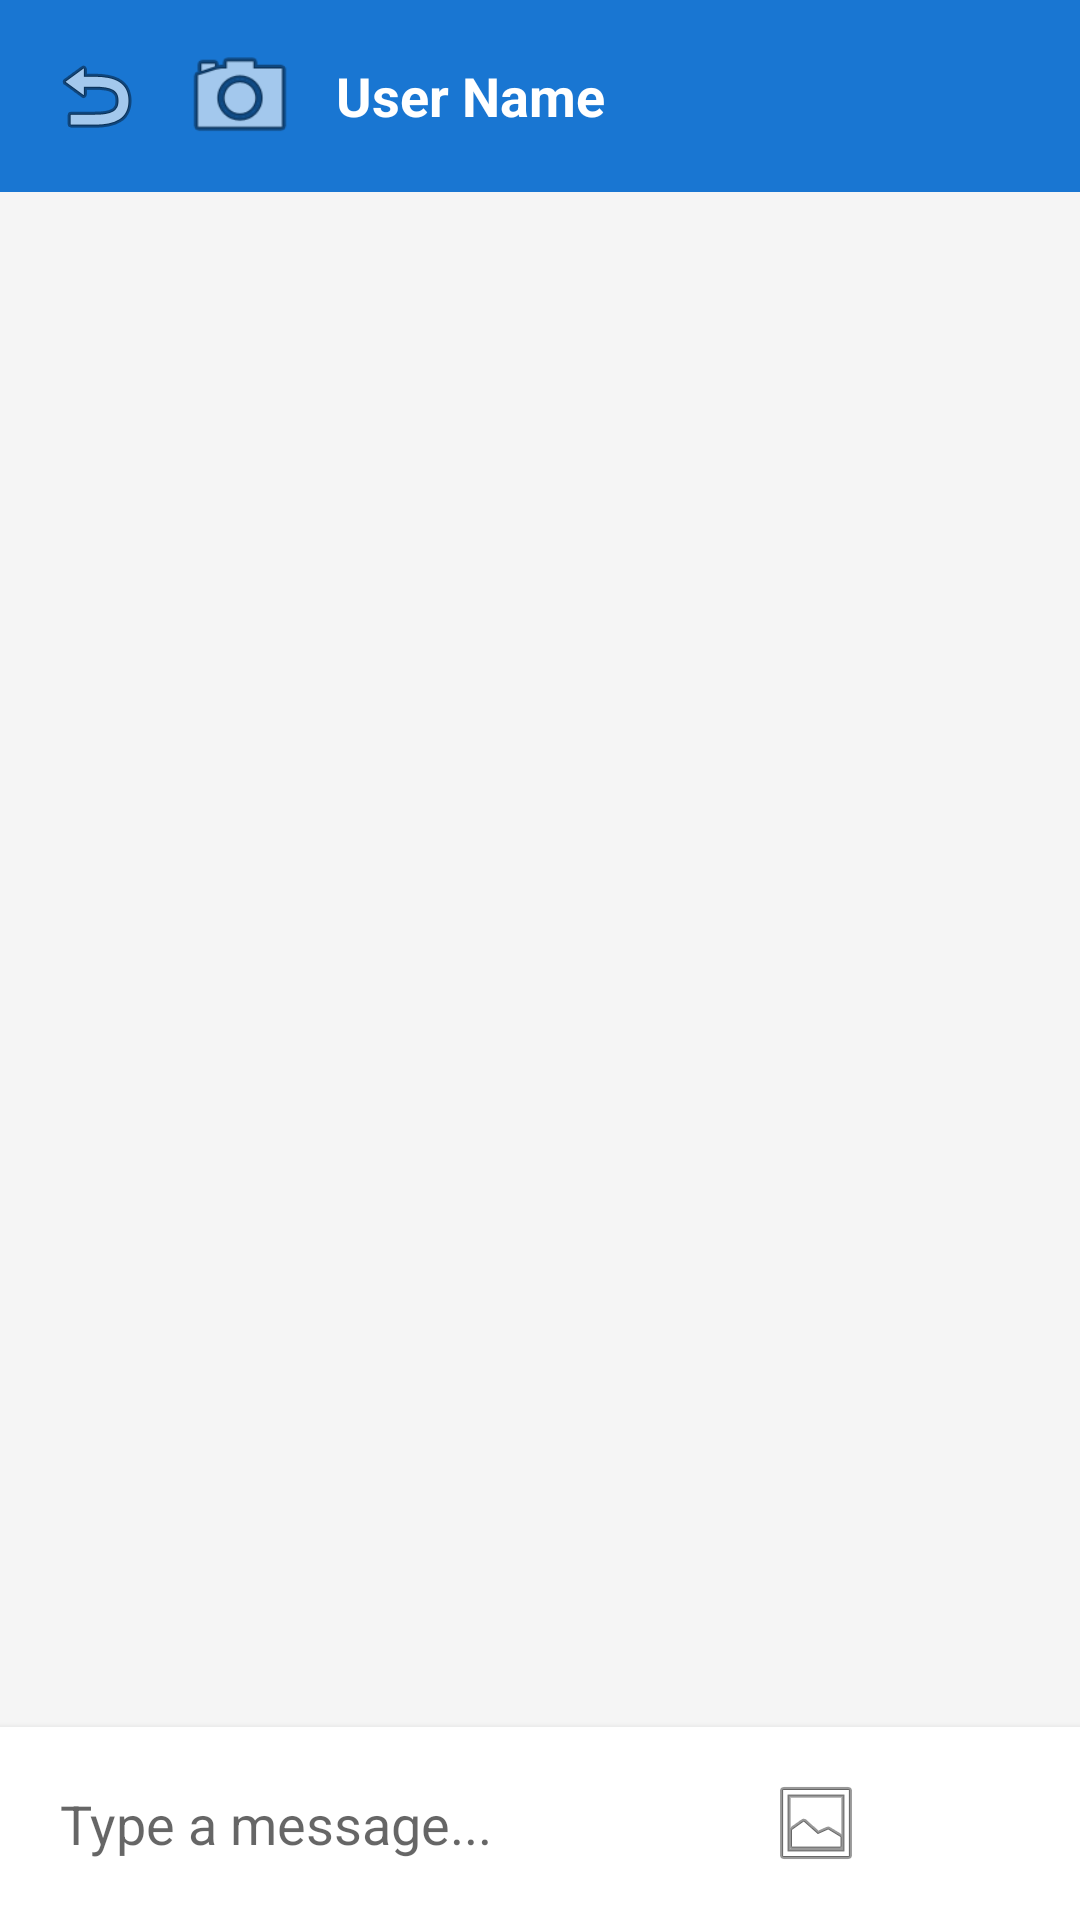

Where to tap for icons on this 1080px×1920px app screen, as [x,y]:
Back: [97,96]
Send Image: [816,1823]
